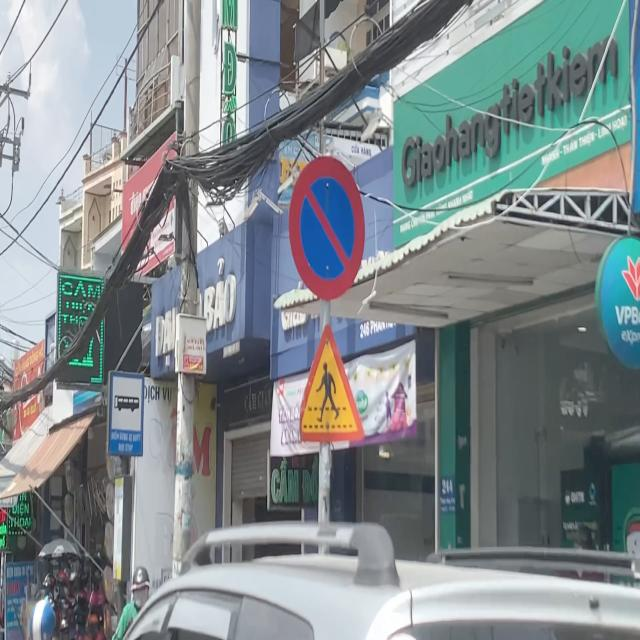Ben xe buyt: (106, 370, 144, 457)
Cam do: (288, 154, 366, 302)
Nguoi di bo cat ngang: (296, 323, 368, 442)
